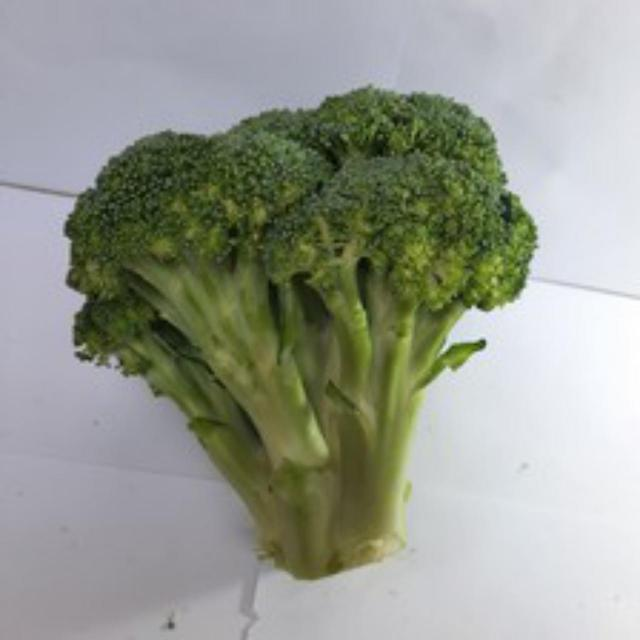broccoli: (60, 65, 540, 602)
